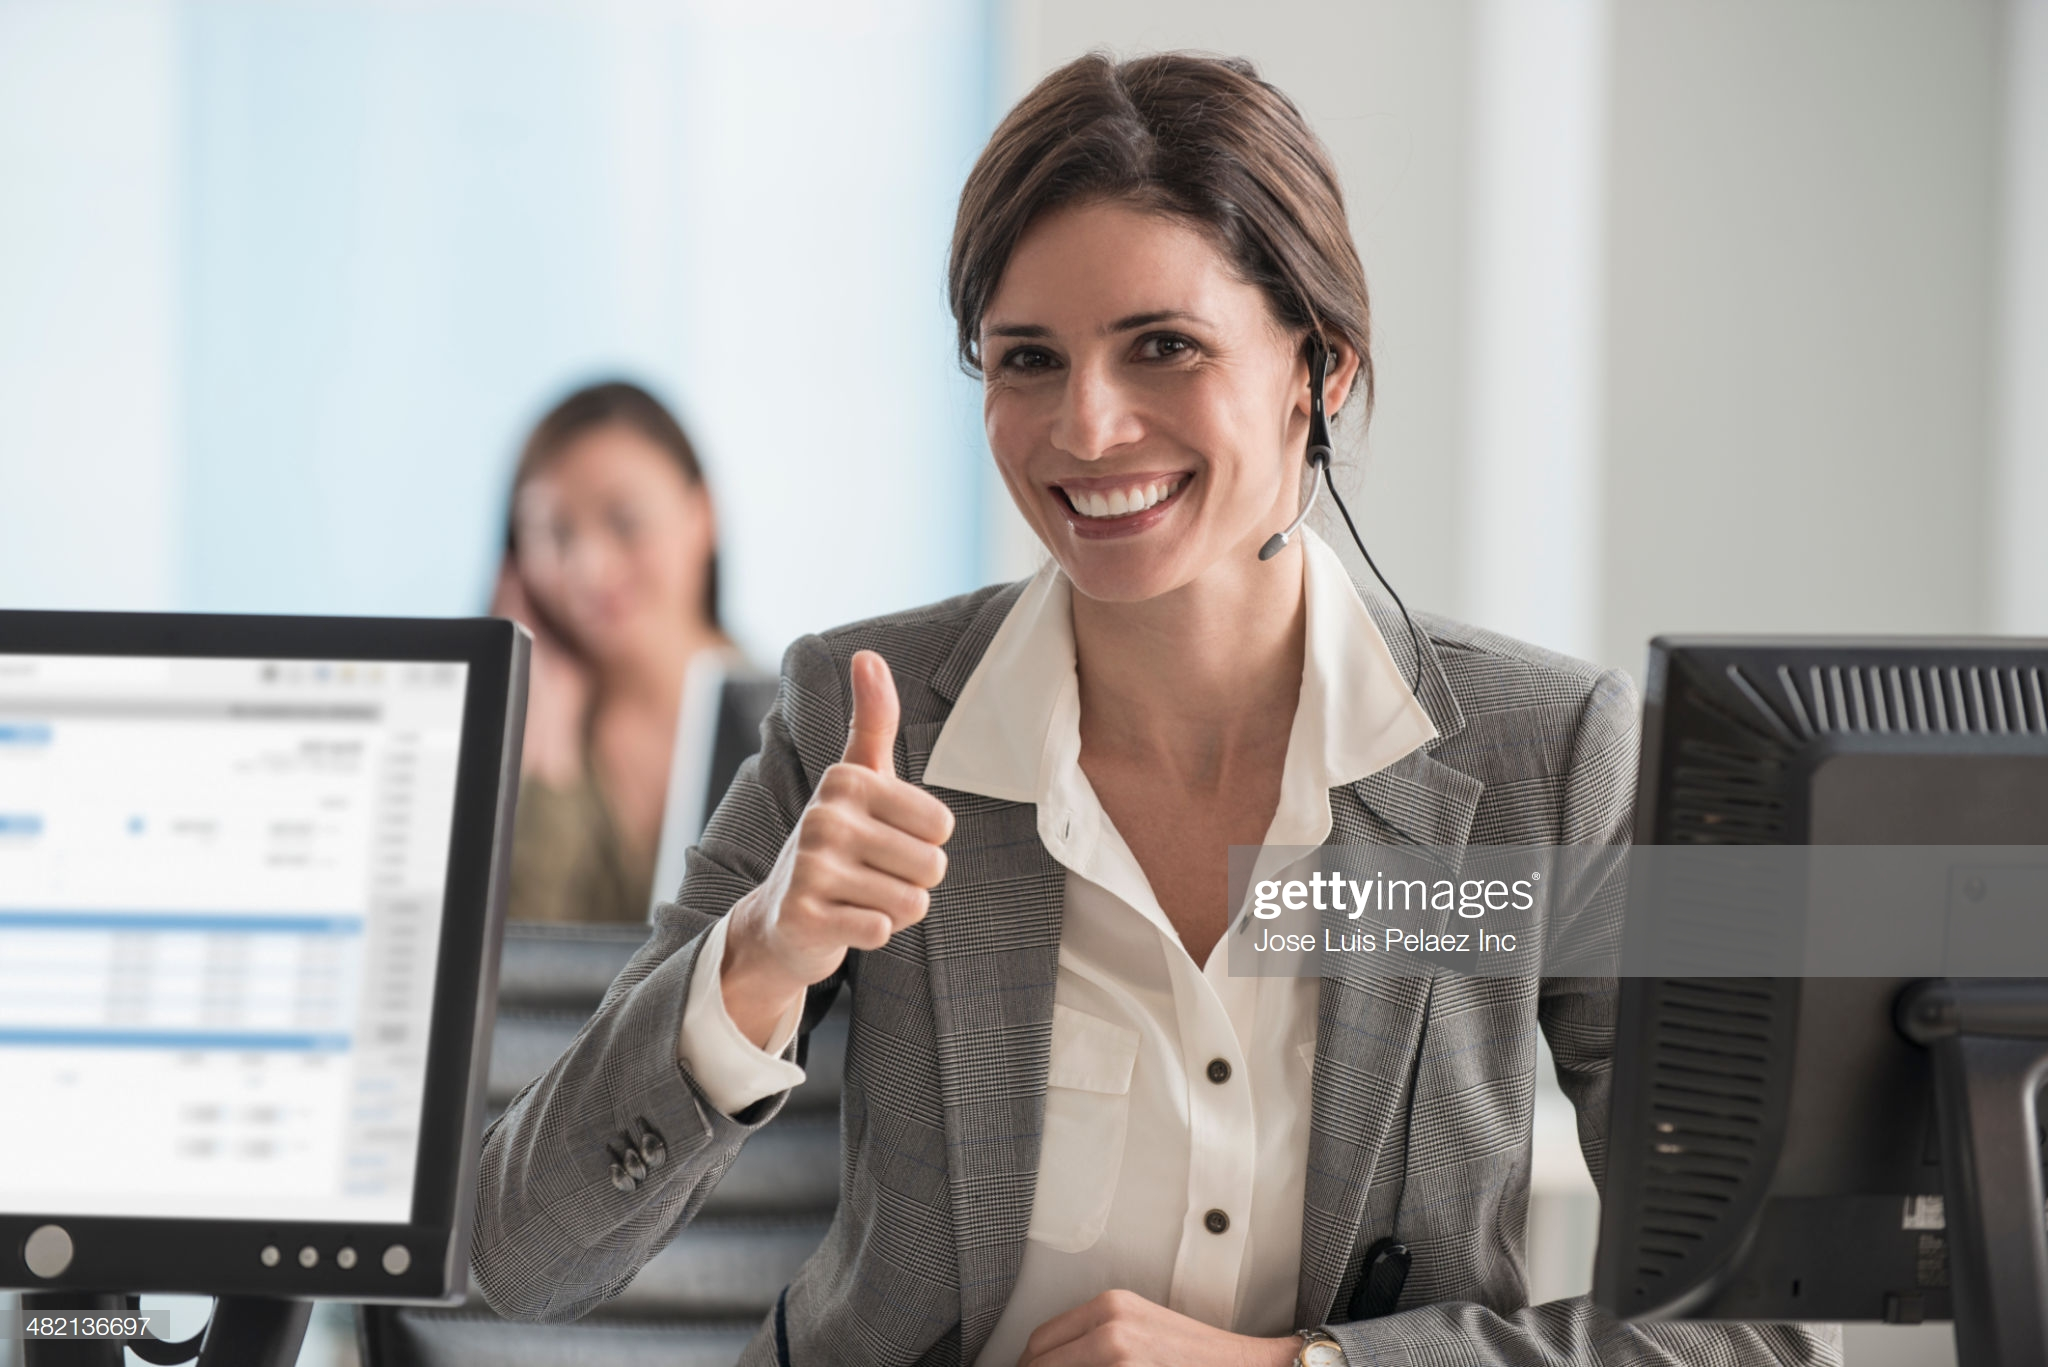thumbsup: (773, 647, 958, 954)
